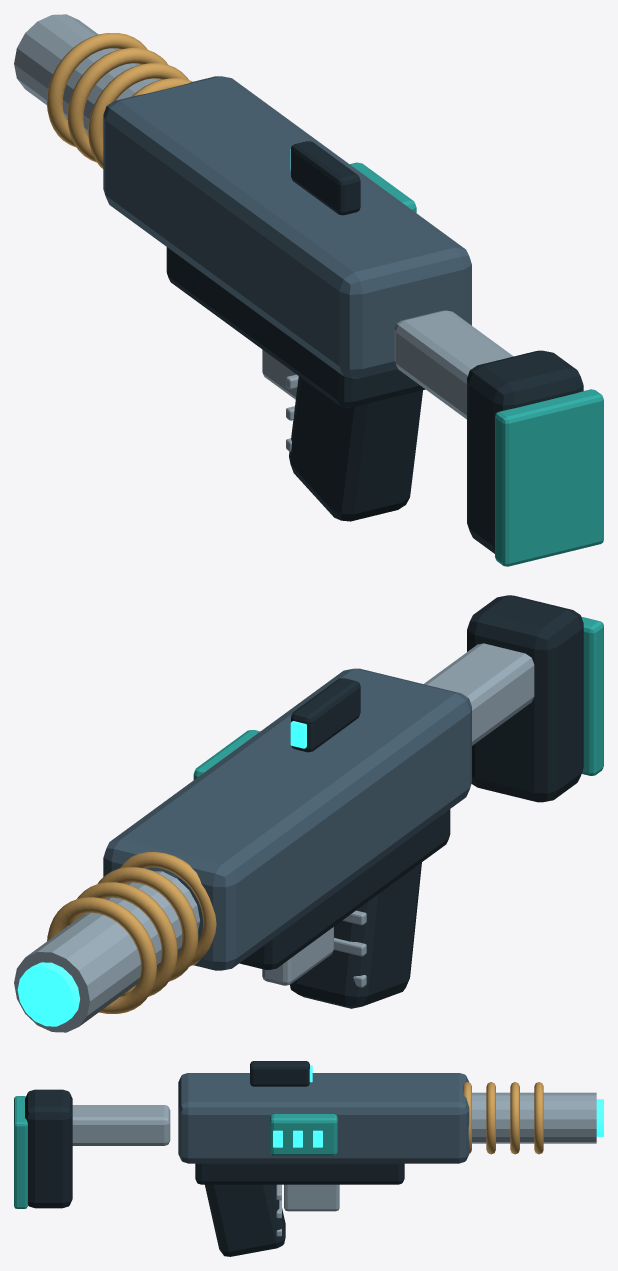
File: tximista_carbine.glb
3 views of the same model, one above another, from view 1: azimuth 30°, elevation 25°; view 2: azimuth 150°, elevation 25°; view 3: azimuth 270°, elevation 25° (orthographic). The views are drawn at different scales.
Parts seen in each view (by area): view 1: Geometry_tximista_carbine; view 2: Geometry_tximista_carbine; view 3: Geometry_tximista_carbine.
Part boxes in pixels (left/top/right/bottom): Geometry_tximista_carbine: left=14, top=14, right=603, bottom=566; Geometry_tximista_carbine: left=14, top=595, right=603, bottom=1032; Geometry_tximista_carbine: left=14, top=1061, right=603, bottom=1256.
Size of the model in its own units: 0.26 by 0.5173 by 1.48.
